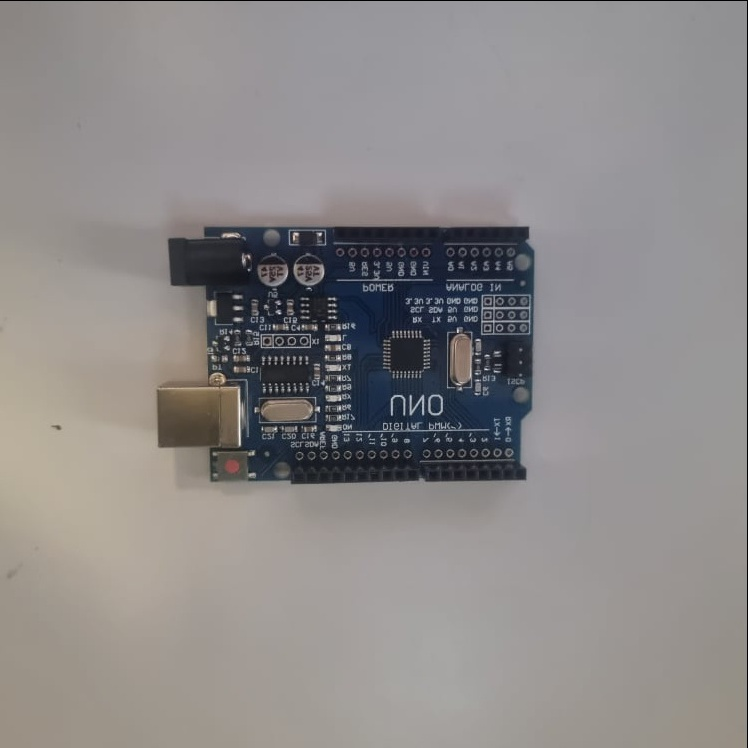UNO R3: (158, 221, 540, 486)
